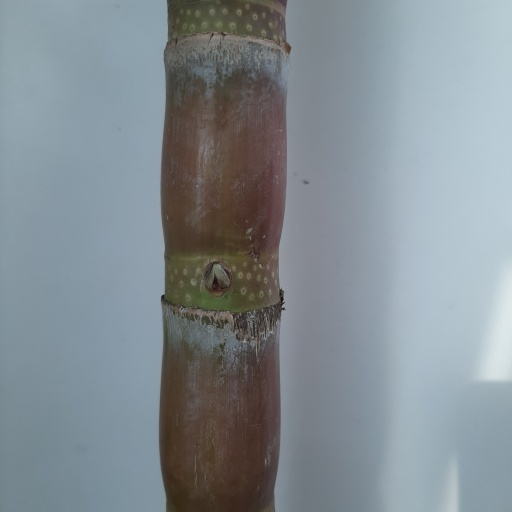Bud: (203, 260, 232, 295)
